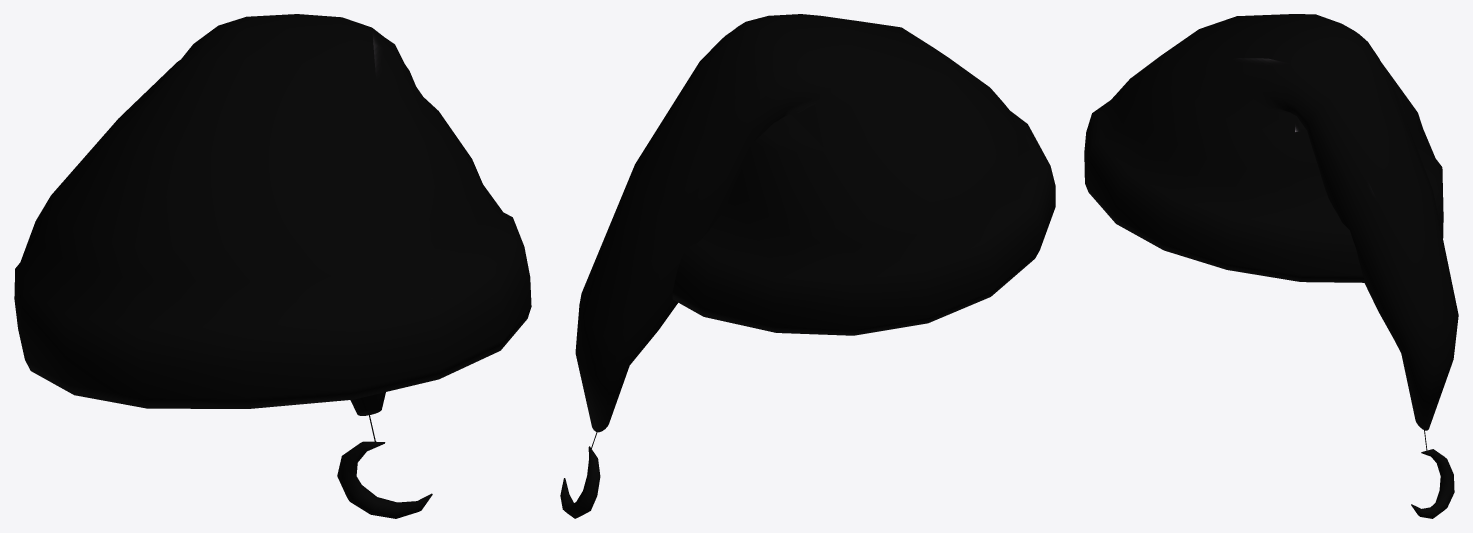
File: Gorro.fbx
3 views of the same model, side by side, from view 1: azimuth 30°, elevation 25°; view 2: azimuth 150°, elevation 25°; view 3: azimuth 270°, elevation 25° (orthographic). The views are drawn at different scales.
Parts seen in each view (by area): view 1: Gorro; view 2: Gorro; view 3: Gorro.
Boxes of the visible parts, x1=… form: Gorro: x1=14, y1=14, x2=531, y2=518; Gorro: x1=560, y1=14, x2=1055, y2=518; Gorro: x1=1084, y1=14, x2=1458, y2=518.
Size of the model in its own units: 98.55 by 116 by 93.64.
